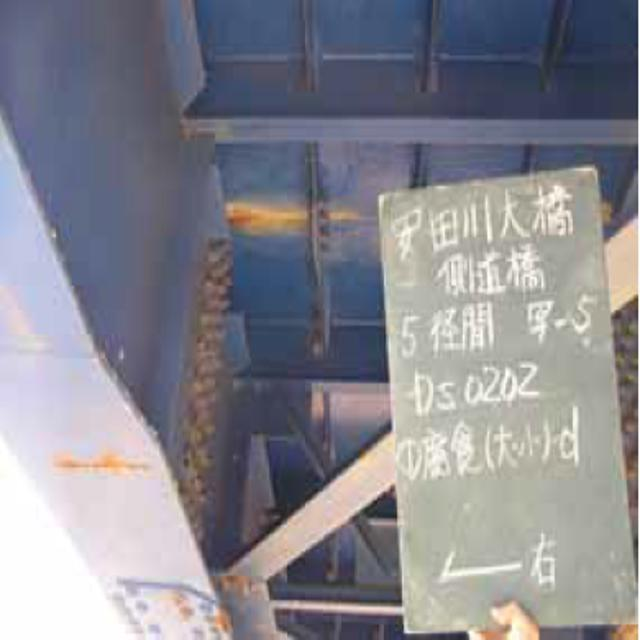corrosion: (163, 234, 231, 550), (157, 571, 294, 640)
freelime: (212, 190, 364, 230)
